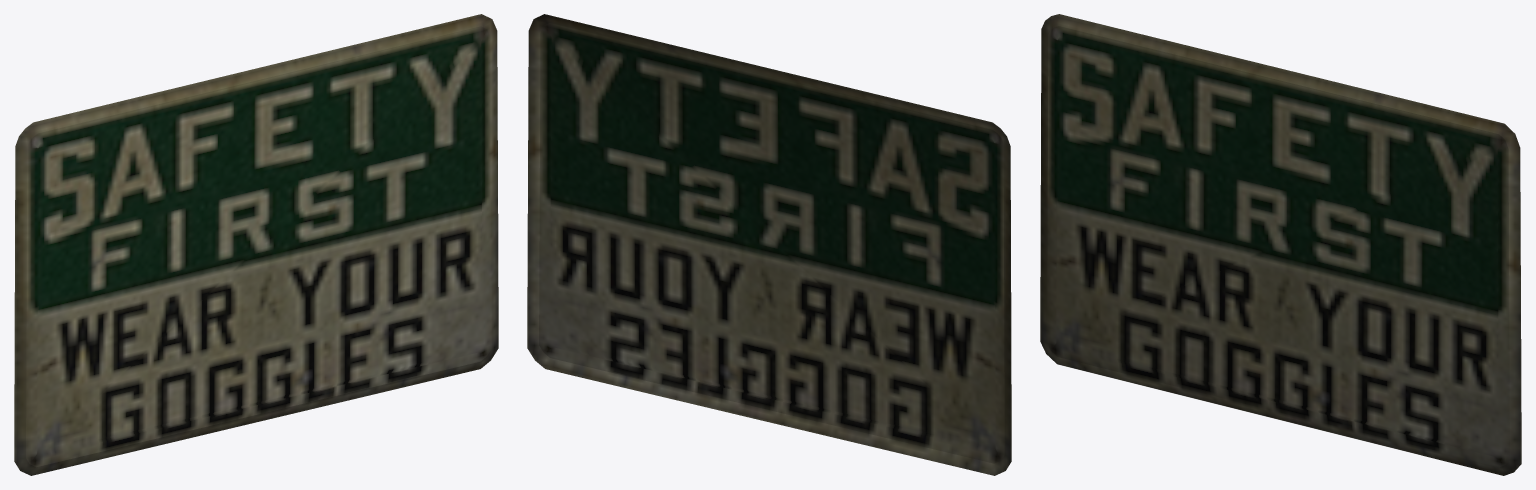
Rendered from sign_1.obj.
3 views of the same model, side by side, from view 1: azimuth 30°, elevation 25°; view 2: azimuth 150°, elevation 25°; view 3: azimuth 330°, elevation 25° (orthographic).
Visible parts, largest first — view 1: sign_1; view 2: sign_1; view 3: sign_1.
Boxes of the visible parts, x1,y1,x2,y2 form: sign_1: (14,14,498,475); sign_1: (527,14,1011,475); sign_1: (1040,14,1521,475).
Size of the model in its own units: 0.4104 by 0.2879 by 0.005.
